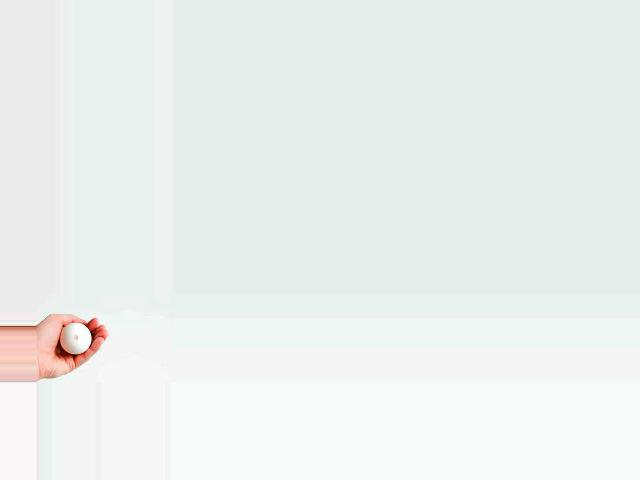egg: (60, 323, 92, 354)
